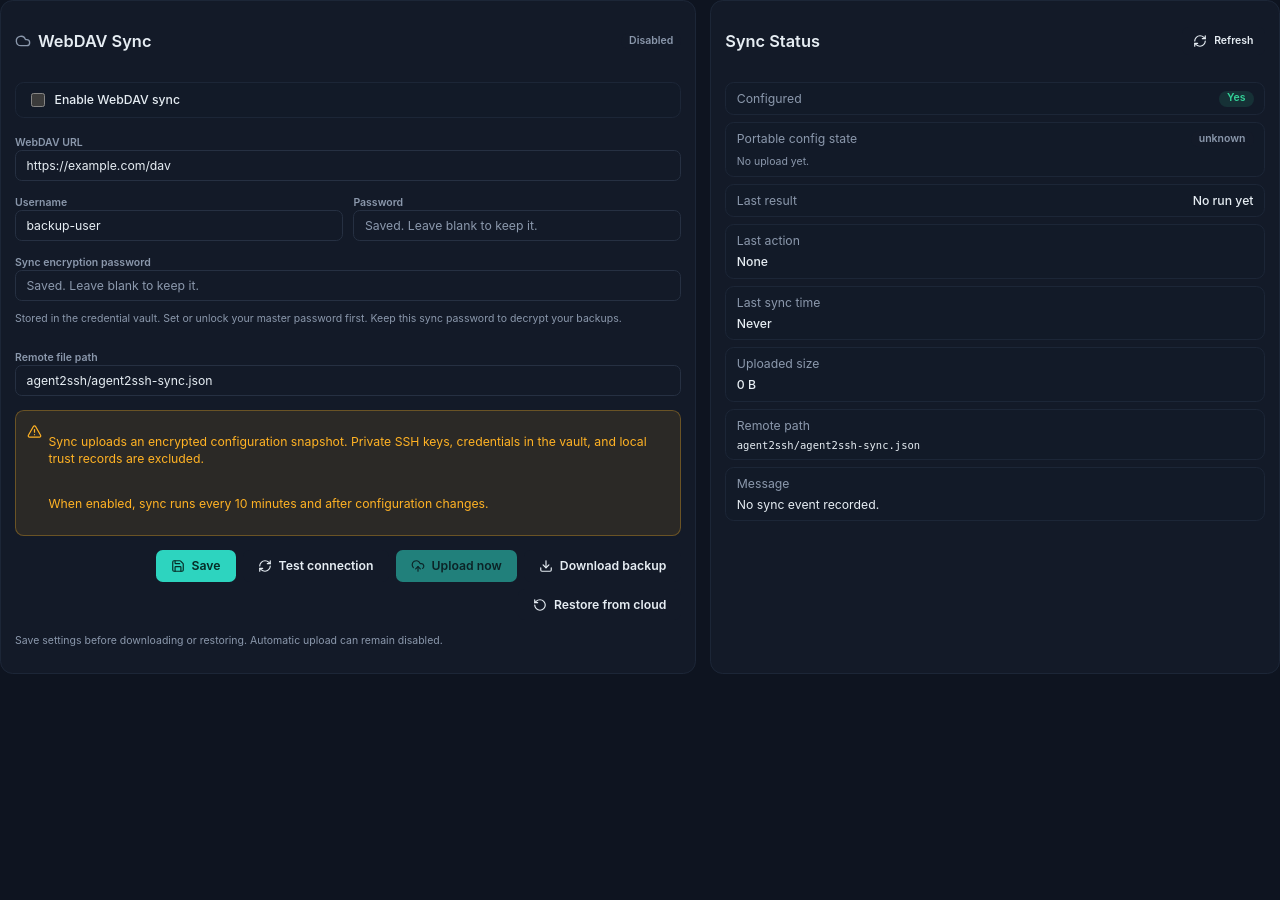
Test: SyncPanel encrypted upload settings › downloads with saved settings even when automatic upload is disabled
Expected: the field labelled "WebDAV URL" holds "https://example.com/dav", [15,150,681,181]
Expected: the button "Save" is enabled, [156,550,236,582]
Click the button "Download backup" at (603, 566), box [524,550,681,582]
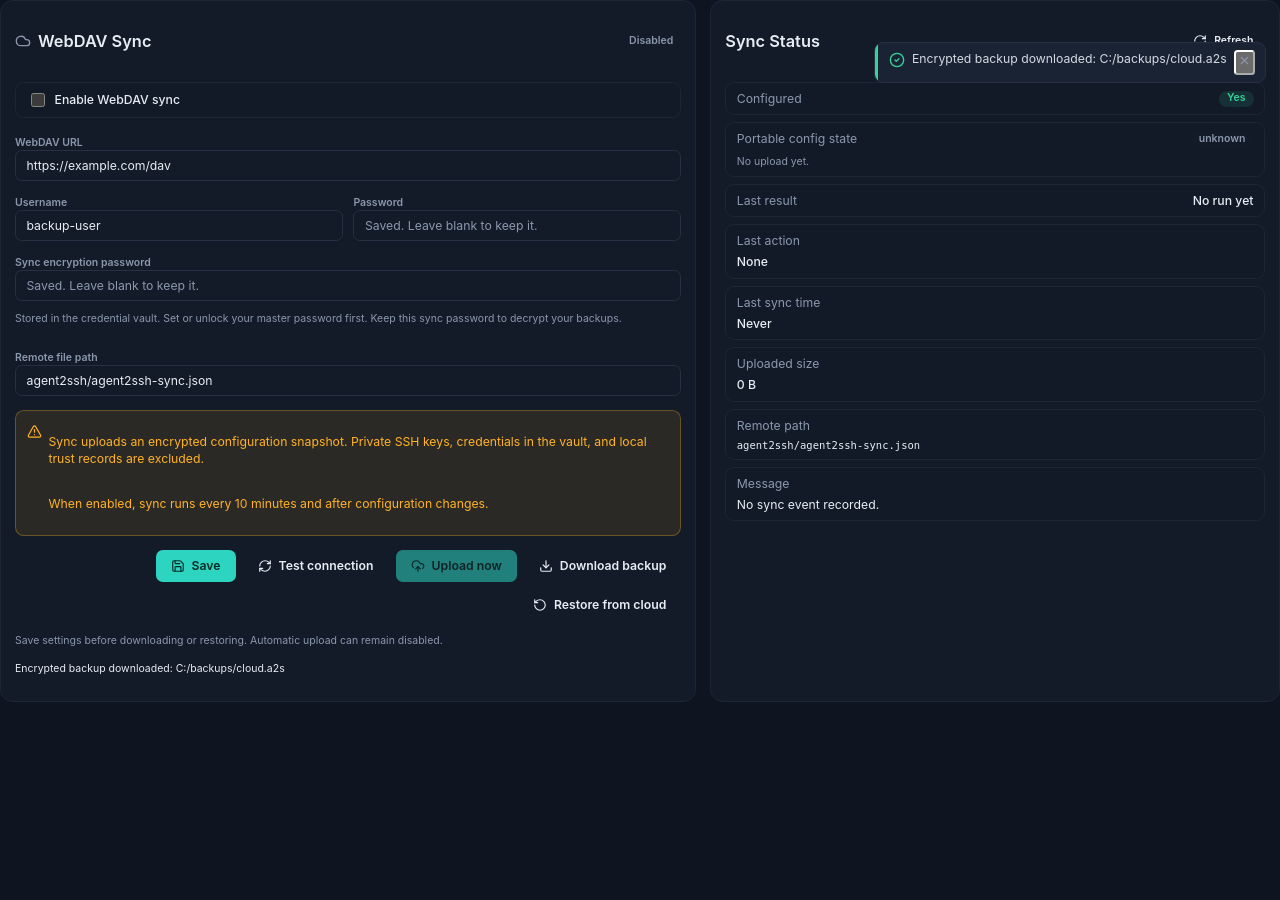
Expected: the text "Encrypted backup downloaded: C:/backups/cloud.a2s" below "Remote file path" is shown, [15,662,285,675]
